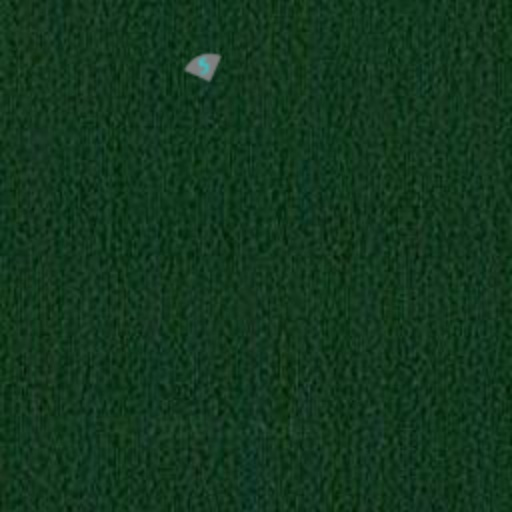quarter_circle: (178, 40, 230, 92)
